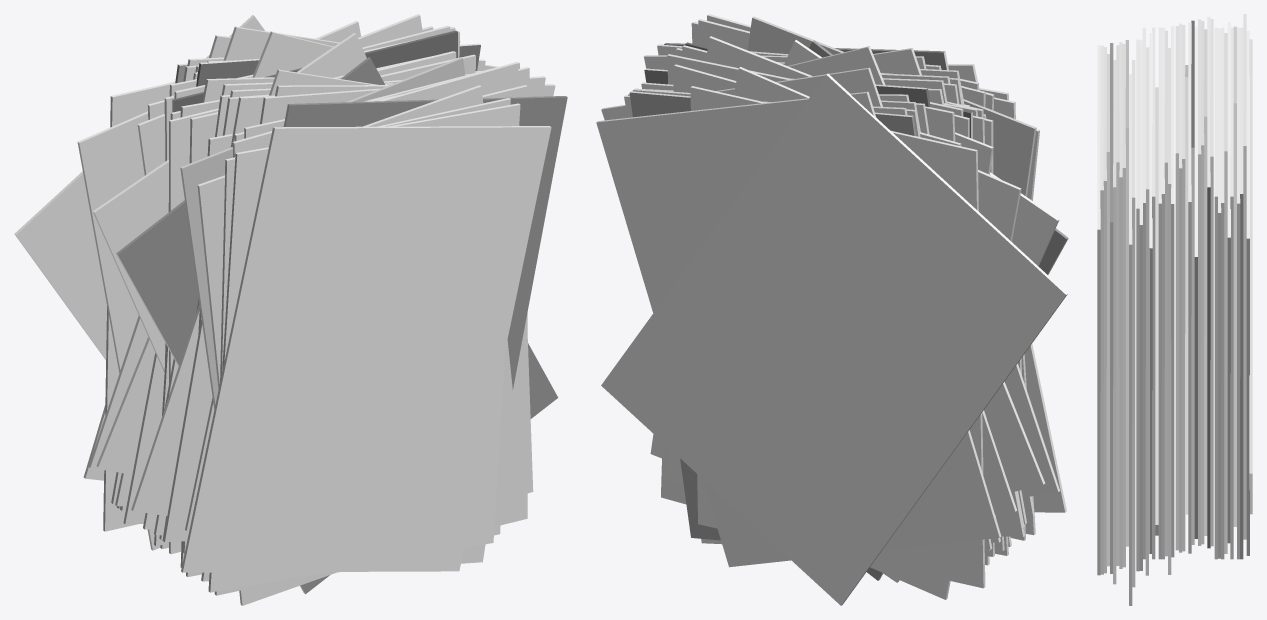
File: PaperStackModel.fbx
The picture shows the model from 3 angles, left to right: view 1: azimuth 30°, elevation 25°; view 2: azimuth 150°, elevation 25°; view 3: azimuth 270°, elevation 25°; orthographic projection. The views are drawn at different scales.
Parts seen in each view (by area): view 1: PaperStackModel; view 2: PaperStackModel; view 3: PaperStackModel.
Part boxes in pixels (bbox=[...]): PaperStackModel: bbox=[14, 14, 567, 605]; PaperStackModel: bbox=[596, 14, 1068, 605]; PaperStackModel: bbox=[1097, 14, 1252, 605].
Size of the model in its own units: 32.92 by 35.16 by 9.83.
